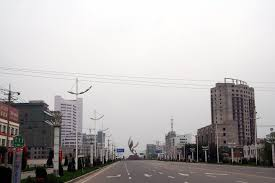strada: (104, 158, 252, 183)
